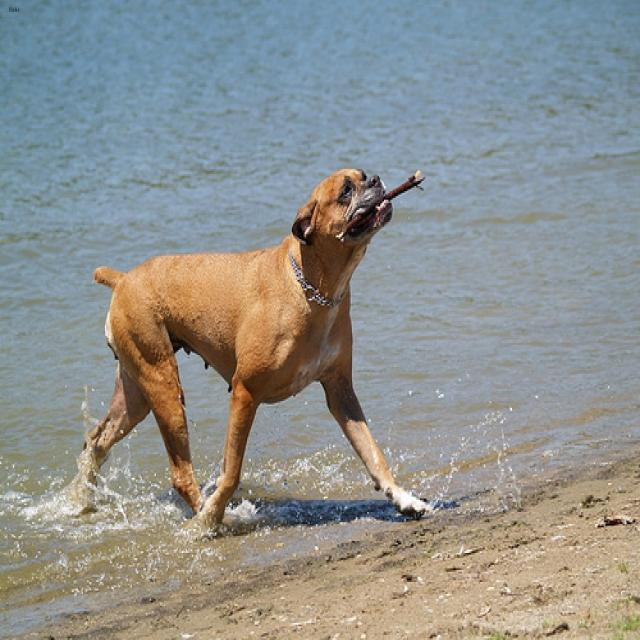dog-boxer: (73, 155, 434, 538)
